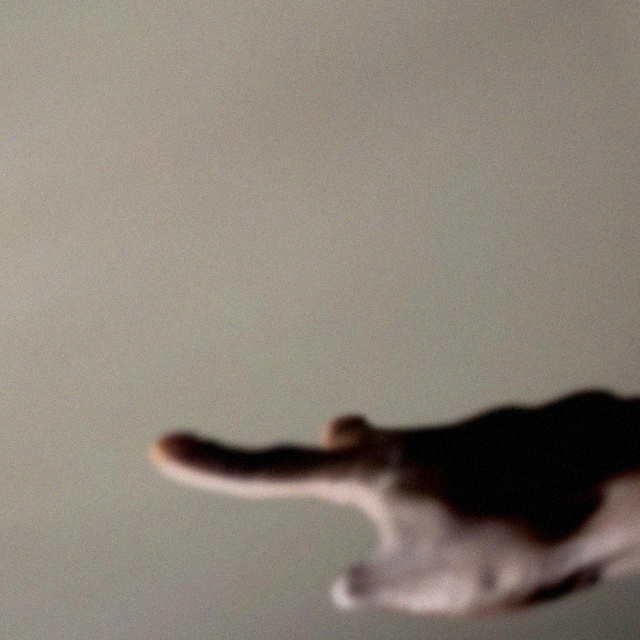Scissors: (145, 243, 640, 640)
